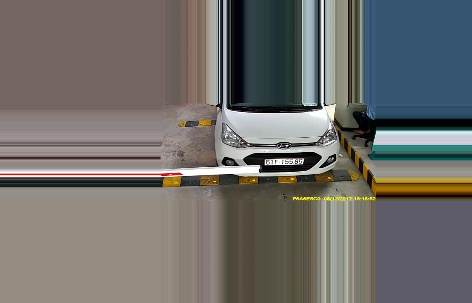plate: (260, 155, 304, 167)
